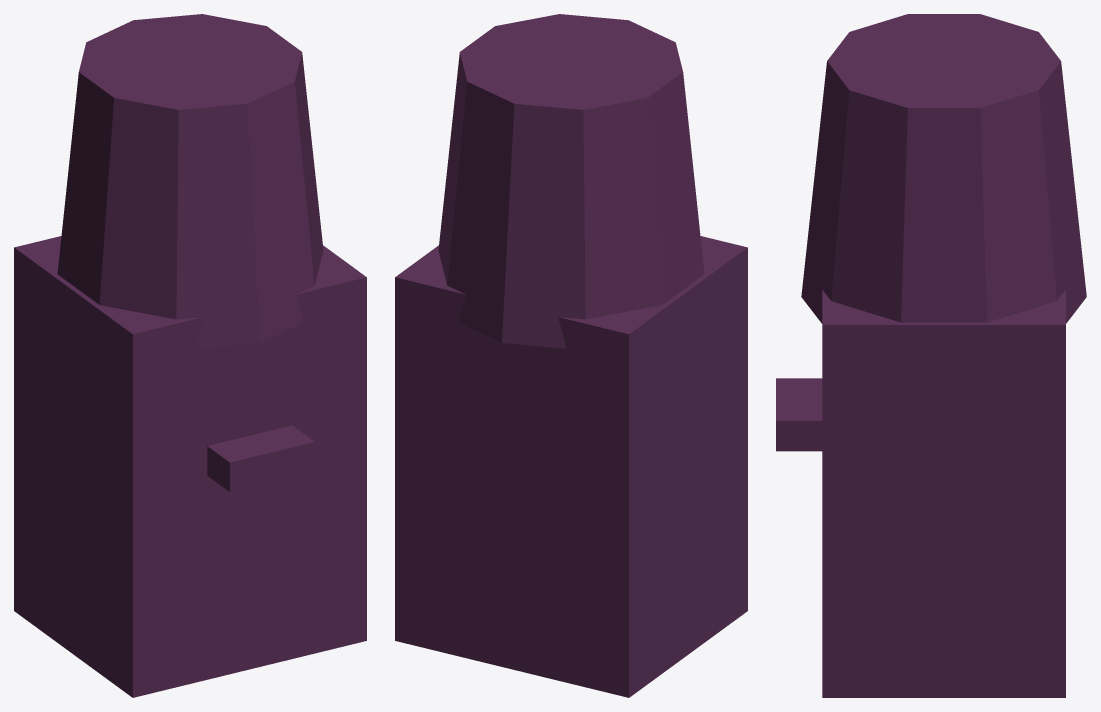
The model's file is water-cooler.obj.
3 renders of one model, left to right at view 1: azimuth 30°, elevation 25°; view 2: azimuth 150°, elevation 25°; view 3: azimuth 270°, elevation 25°, orthographic. The views are drawn at different scales.
Parts seen in each view (by area): view 1: cooler-body, water-jug, little-tap; view 2: cooler-body, water-jug; view 3: cooler-body, water-jug, little-tap.
Part boxes in pixels (<box>): cooler-body: <box>14,236,366,697</box>; water-jug: <box>57,14,323,348</box>; little-tap: <box>207,425,314,491</box>; cooler-body: <box>395,236,747,697</box>; water-jug: <box>438,14,704,348</box>; cooler-body: <box>822,290,1065,697</box>; water-jug: <box>801,14,1086,323</box>; little-tap: <box>776,378,822,451</box>.
Bounding box in the file's own units: 0.66 × 1.52 × 0.74.
